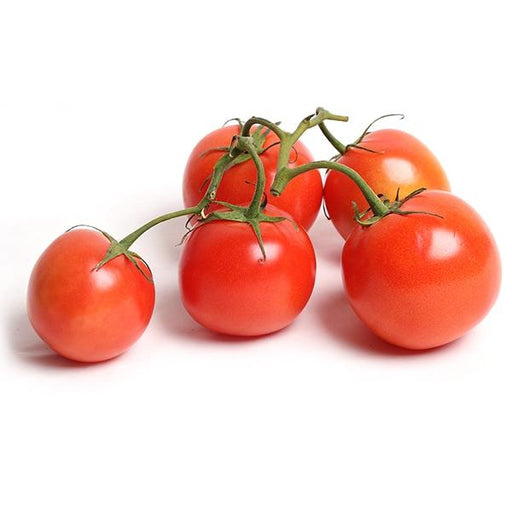tomato: (26, 122, 503, 363)
